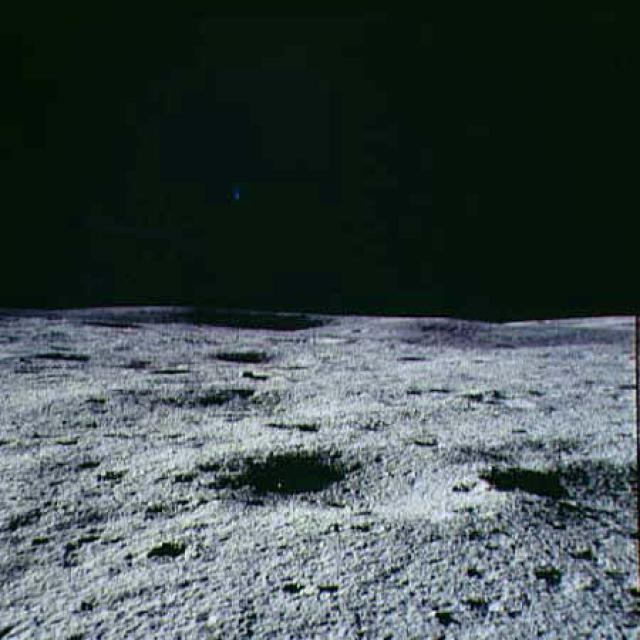crater: (180, 440, 499, 538), (52, 371, 414, 435), (472, 426, 639, 520), (207, 342, 312, 376)
